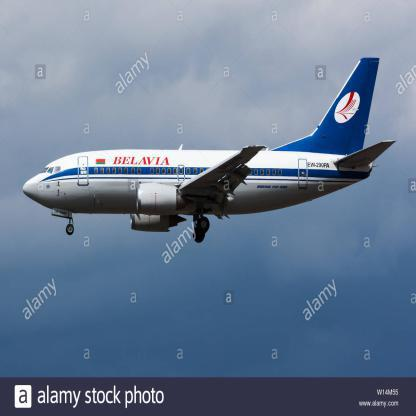CIV_Plane: (21, 41, 396, 248)
